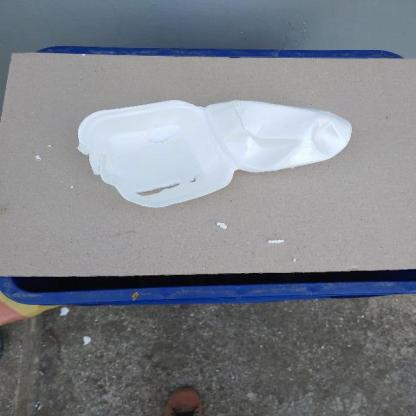Glass Cup: (78, 99, 352, 208), (77, 100, 352, 207)
